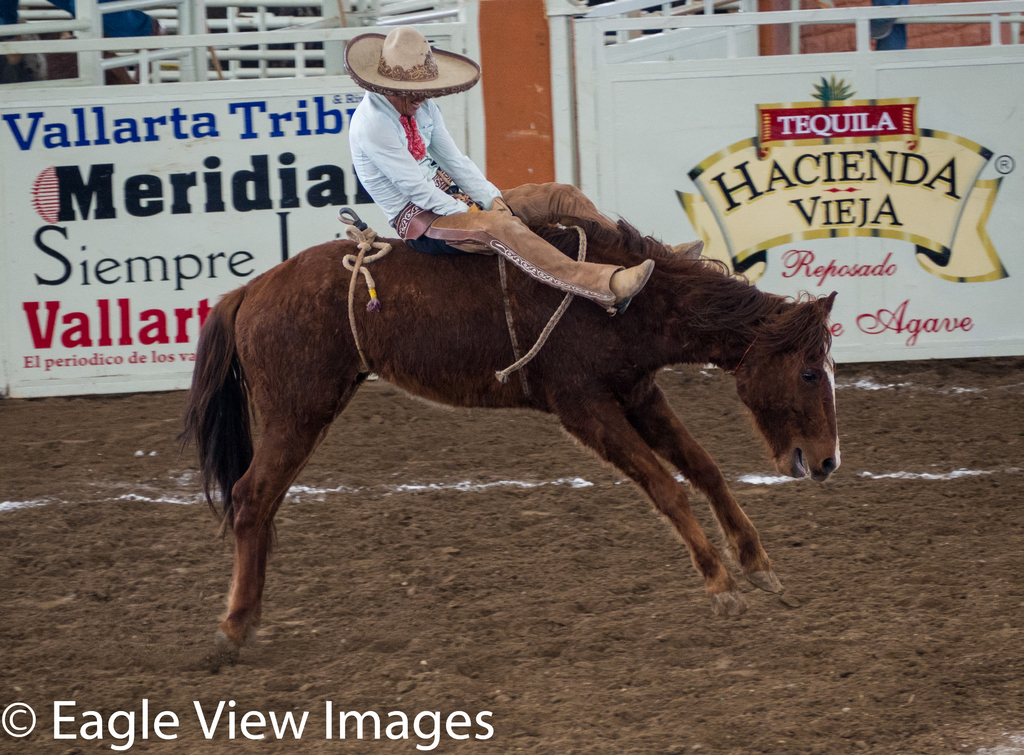horse: (174, 212, 840, 655)
